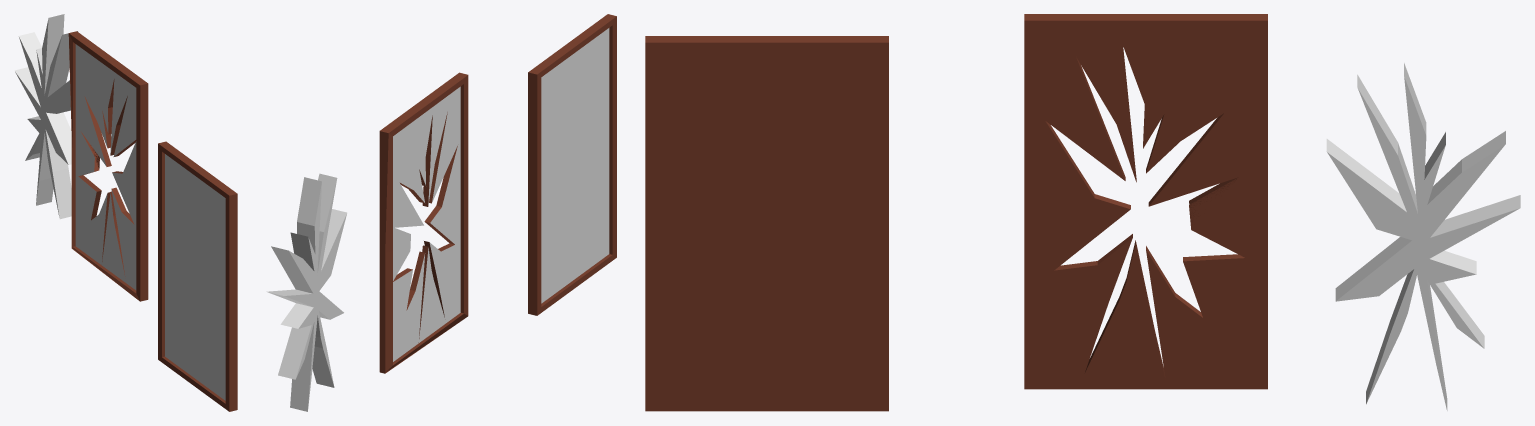
Rendered from darumagarasu01.fbx.
3 views of the same model, side by side, from view 1: azimuth 30°, elevation 25°; view 2: azimuth 150°, elevation 25°; view 3: azimuth 270°, elevation 25° (orthographic). The views are drawn at different scales.
Visible parts, largest first — view 1: 立方体, 立方体.002, 円柱; view 2: 立方体, 立方体.002, 円柱; view 3: 立方体, 立方体.002, 円柱.
Part boxes in pixels (left/top/right/bottom): 立方体: left=158, top=141, right=237, bottom=411; 立方体.002: left=68, top=31, right=148, bottom=301; 円柱: left=14, top=14, right=77, bottom=219; 立方体: left=528, top=14, right=616, bottom=315; 立方体.002: left=379, top=72, right=468, bottom=373; 円柱: left=266, top=173, right=346, bottom=411; 立方体: left=645, top=36, right=888, bottom=411; 立方体.002: left=1024, top=14, right=1267, bottom=389; 円柱: left=1326, top=63, right=1520, bottom=410.
Size of the model in its own units: 276 by 1099 by 2132.
